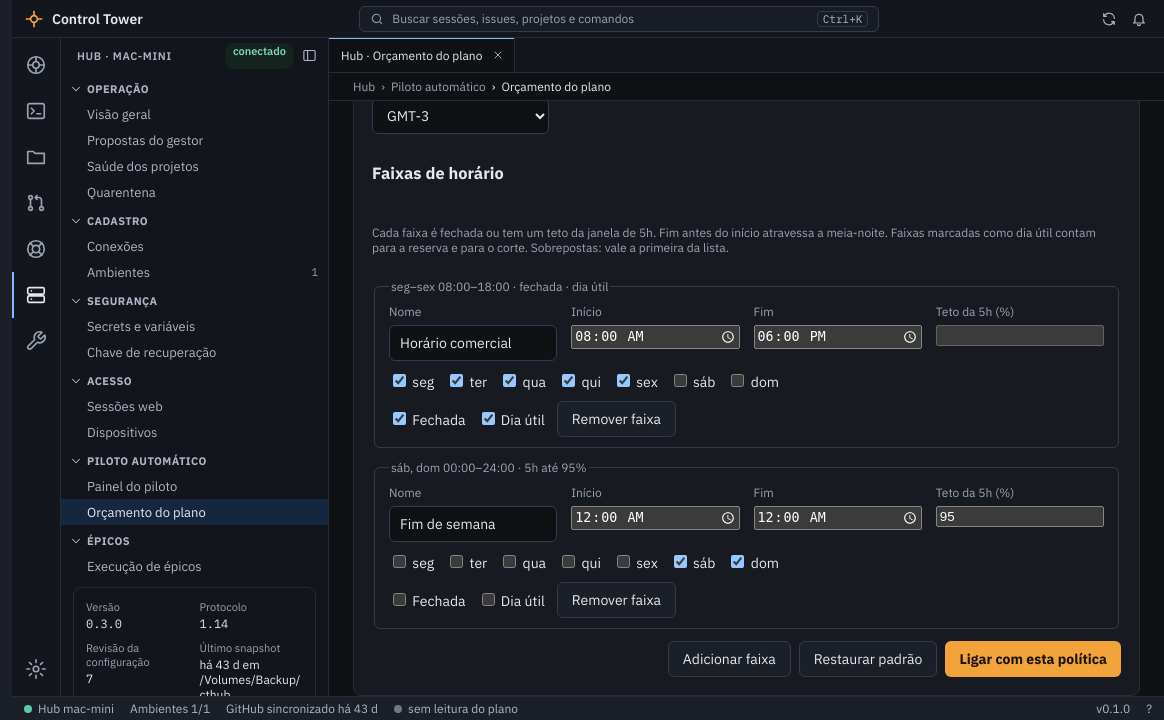
Test: faixas: marcar fechada desabilita o teto, e adicionar faixa
(page scrolled)
Expected: the 2nd number field labelled "Teto da 5h (%)" is enabled, [936,506,1104,527]
Click the checkbox labelled "Fechada" below "sáb, dom 00:00–24:00 · 5h até 95%" at (400, 599), box [393,593,406,606]
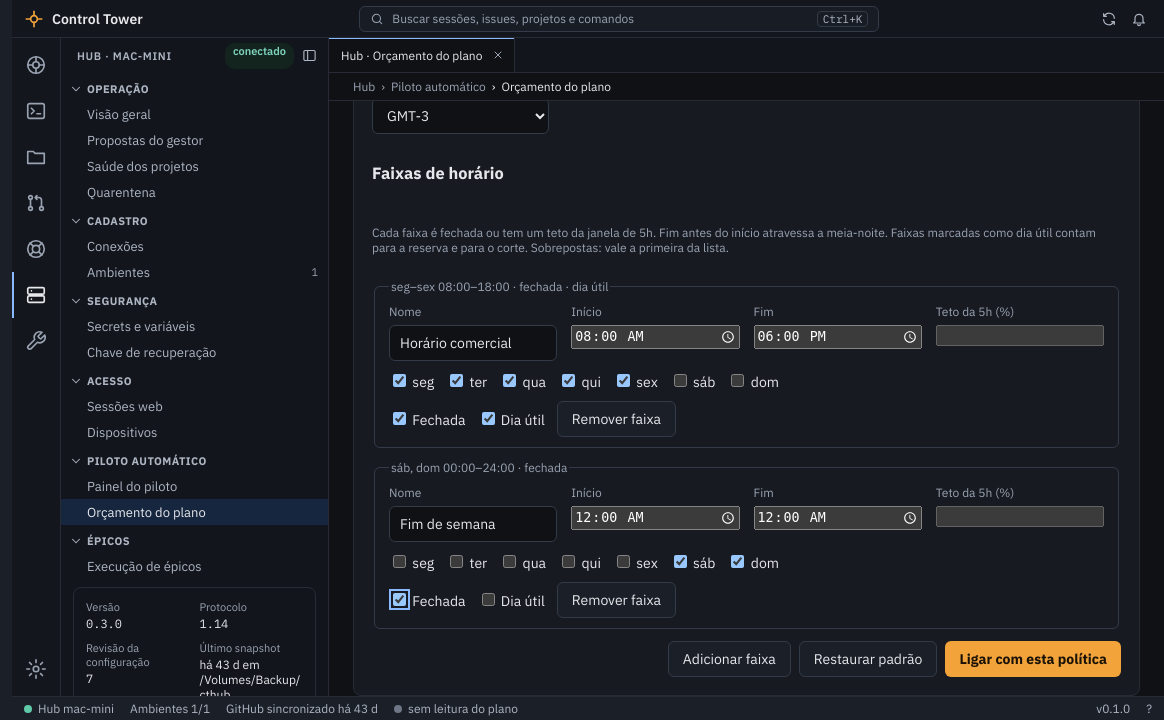
Result: the 2nd number field labelled "Teto da 5h (%)" is disabled at [936,506,1104,527]
Click the button "Adicionar faixa" at (729, 659), box [668,641,791,677]
(page scrolled)
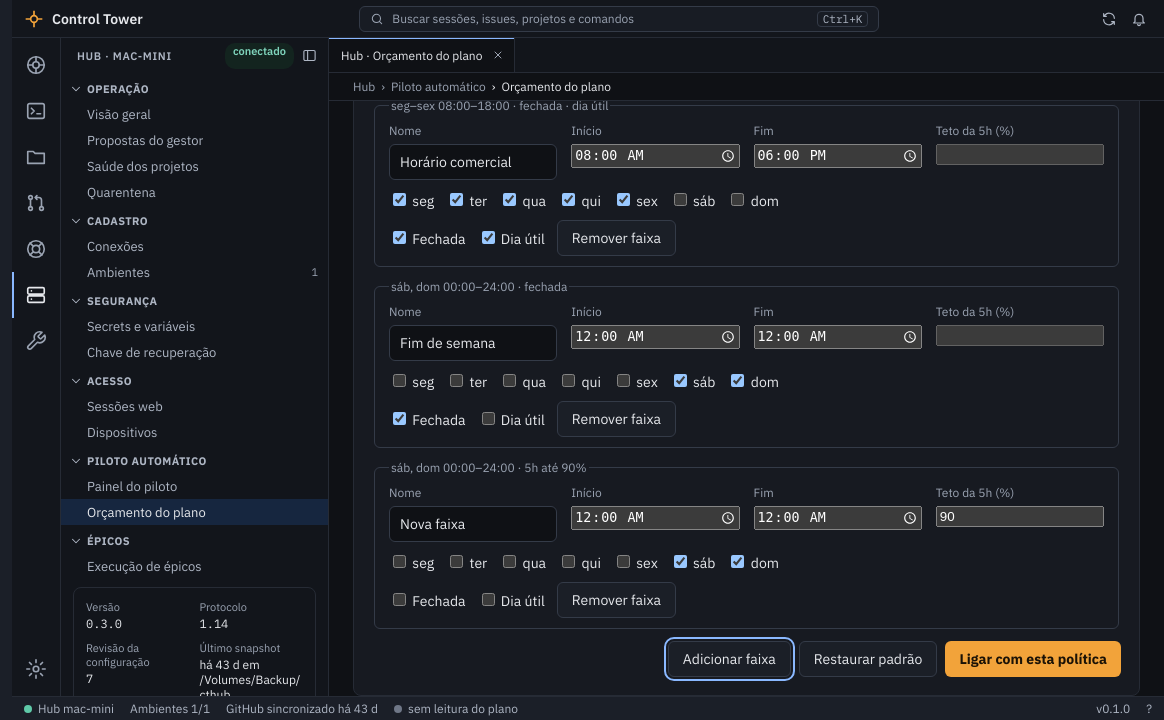
Result: the element named "Faixa Nova faixa" is shown at [374,460,1119,629]
